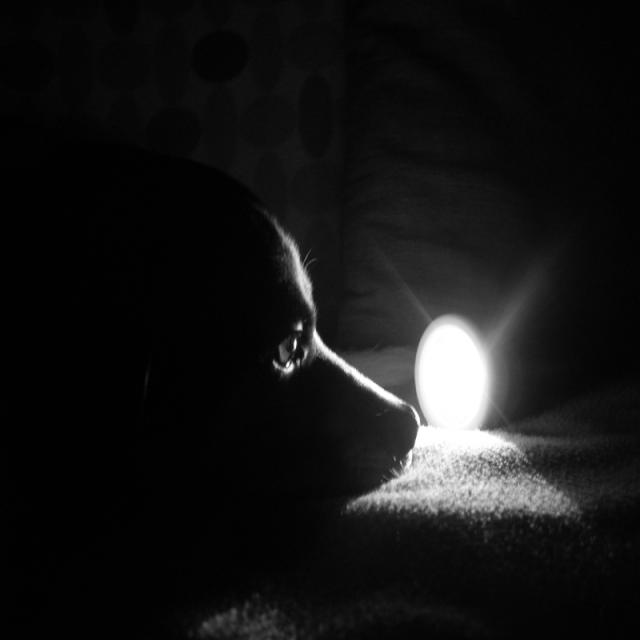Dog: (128, 153, 433, 614)
